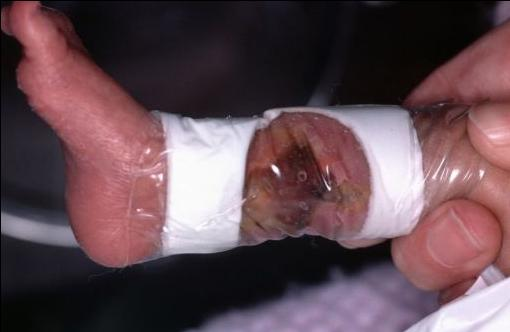NonPU: (238, 114, 363, 233)
